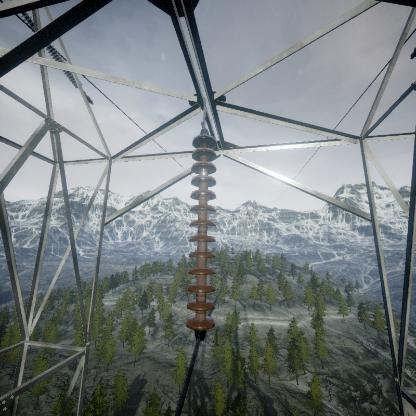insulator: (185, 129, 220, 338)
